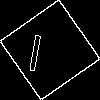I: (25, 25, 47, 72)
